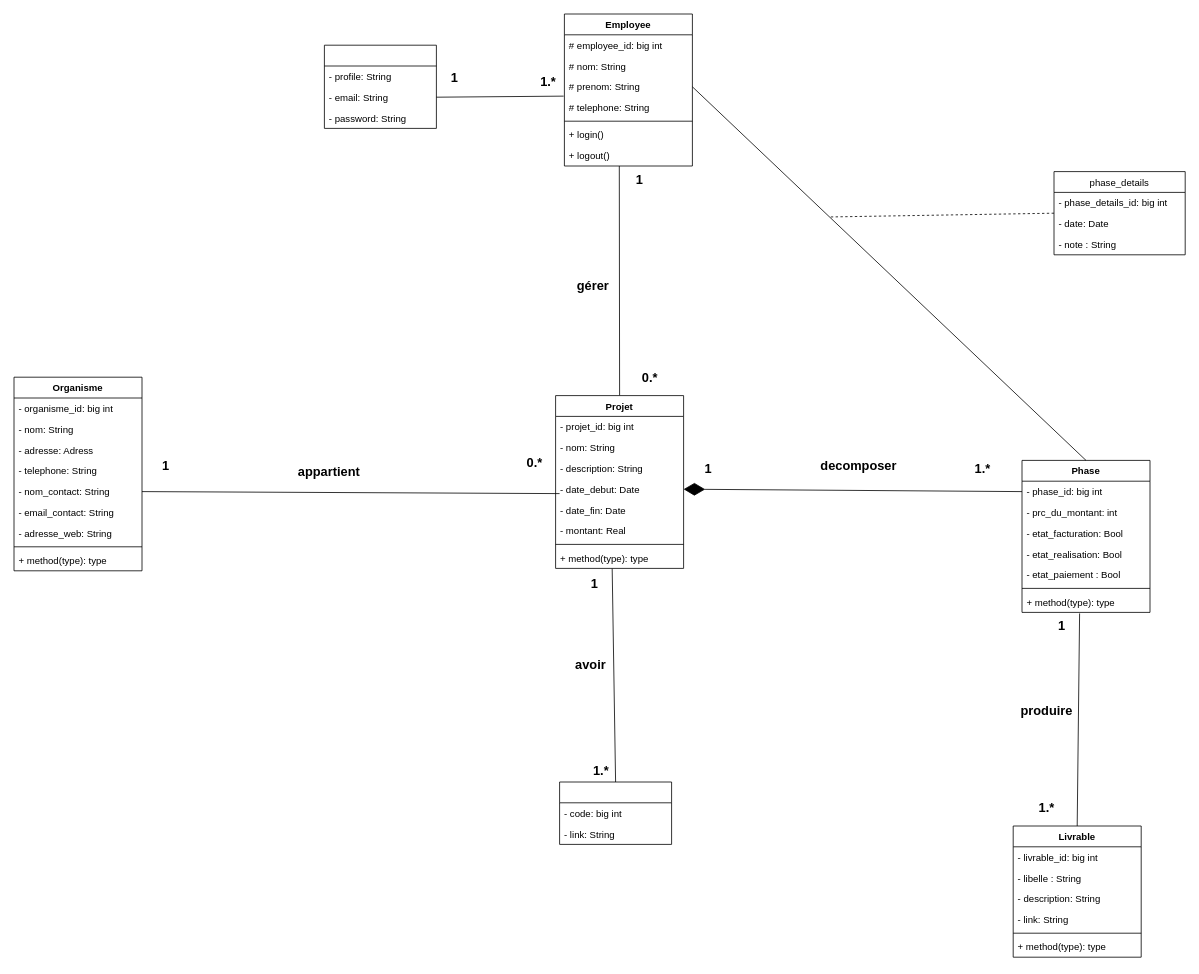
Image size: 1199x974. Some labels were removed from this diagram. Each missing label, with the box of its shape:
Document: (559, 781, 672, 844)
Role: (324, 44, 436, 128)
